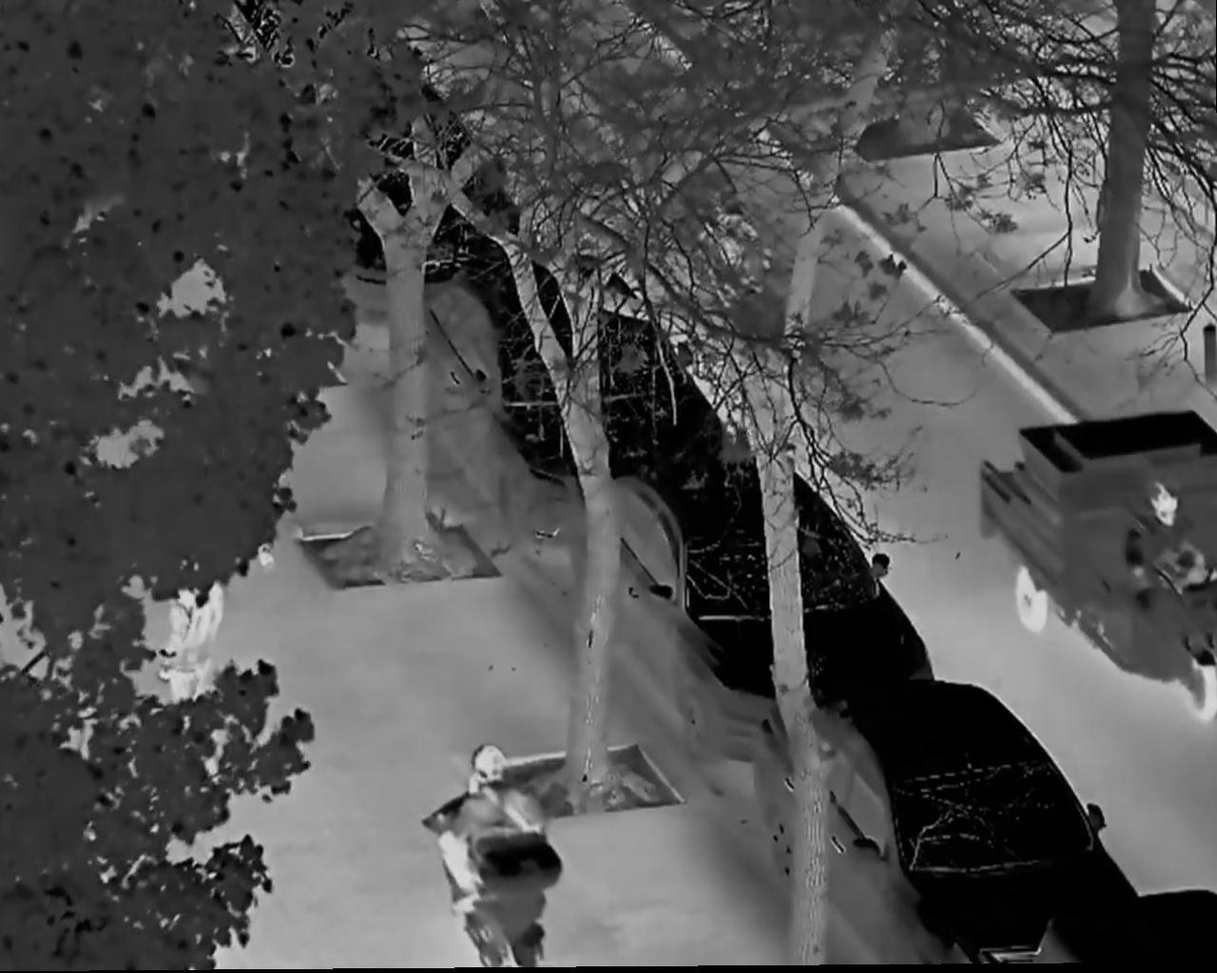person: (435, 749, 555, 934), (154, 533, 233, 763), (696, 194, 773, 313)
